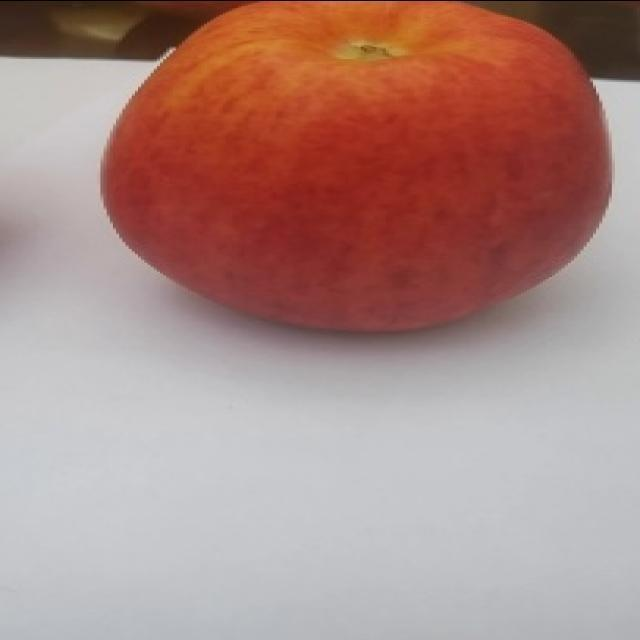Apple: (99, 0, 613, 334)
